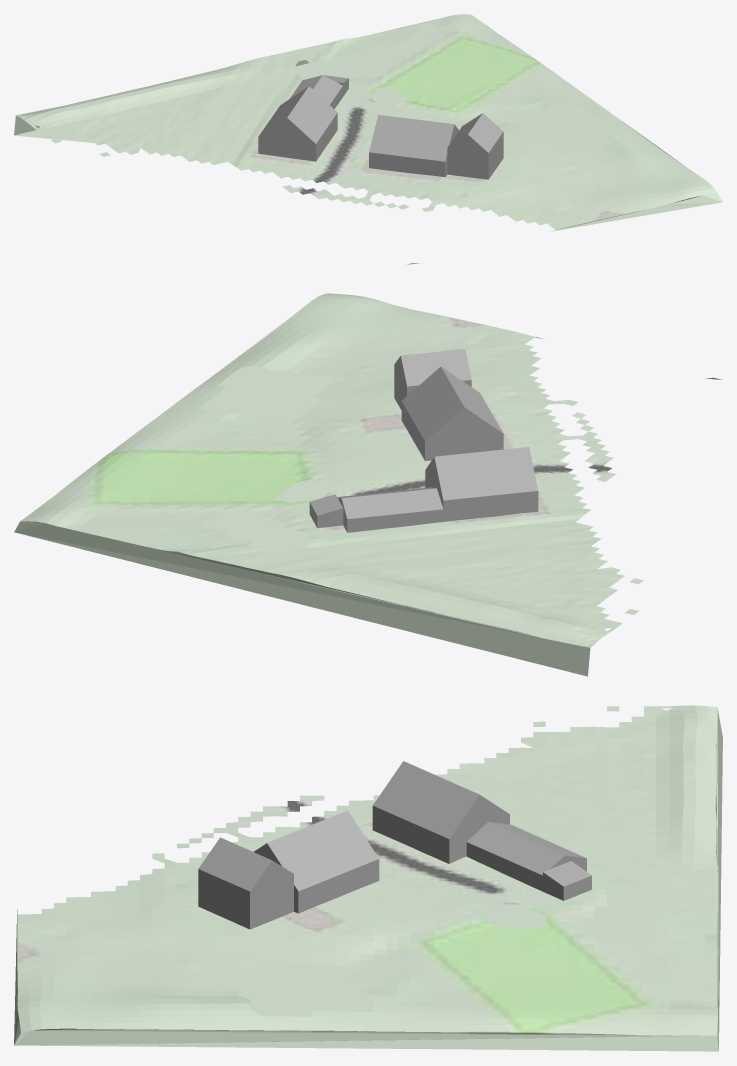
3 views of the same model, one above another, from view 1: azimuth 30°, elevation 25°; view 2: azimuth 150°, elevation 25°; view 3: azimuth 270°, elevation 25° (orthographic). The views are drawn at different scales.
Parts seen in each view (by area): view 1: 4ce78ddf-c1cb-415b-88d2-03d2b761b7dd; view 2: 4ce78ddf-c1cb-415b-88d2-03d2b761b7dd; view 3: 4ce78ddf-c1cb-415b-88d2-03d2b761b7dd.
Part boxes in pixels (x1,y1,x2,y2): 4ce78ddf-c1cb-415b-88d2-03d2b761b7dd: [14, 14, 722, 264]; 4ce78ddf-c1cb-415b-88d2-03d2b761b7dd: [14, 293, 722, 676]; 4ce78ddf-c1cb-415b-88d2-03d2b761b7dd: [14, 705, 722, 1051].
Bounding box in the file's own units: 123 × 16.41 × 117.
